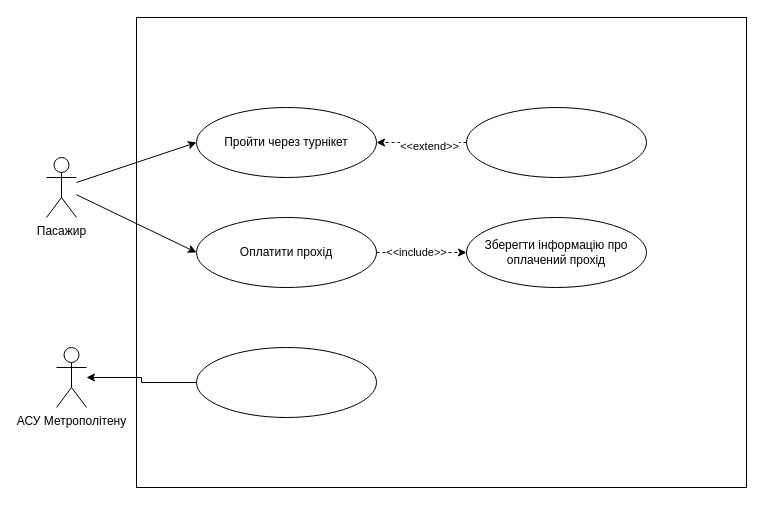
The diagram is 764 pixels wide and 505 high, and some of its shapes have lost their labels. Here are the shapes that lost their labels. From the top down, the centre of each, then its label:
(556,142): Зафіксувати несанкціонований прохід
(286,382): Передати інформацію в АСУ
